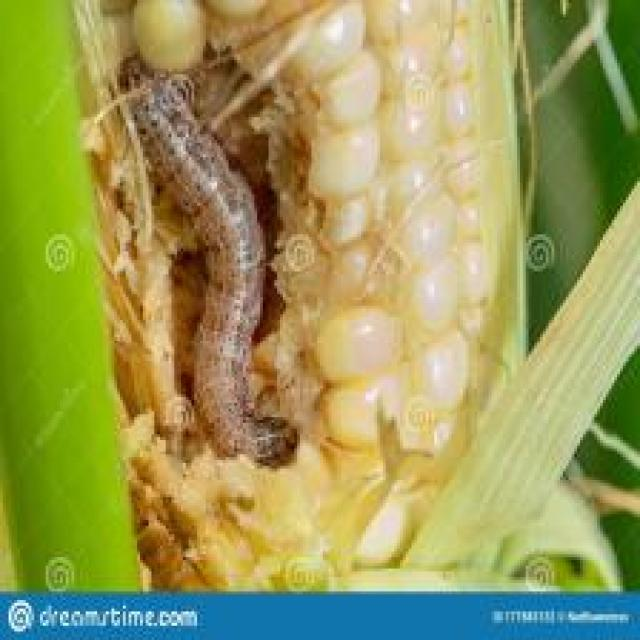Plaga: (91, 49, 340, 484)
